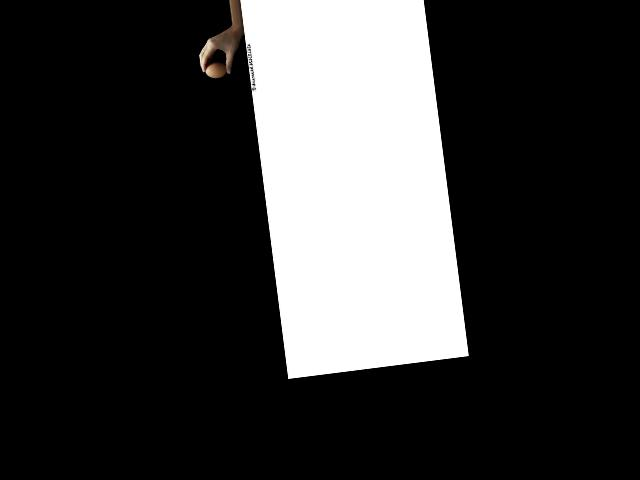egg: (204, 61, 227, 79)
